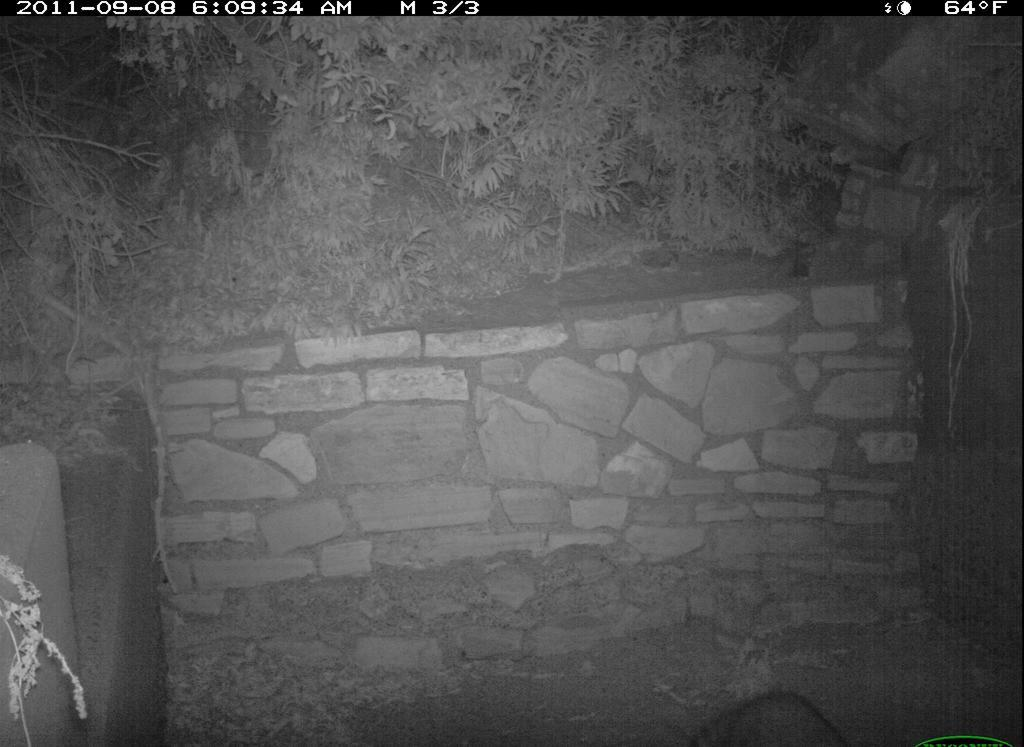raccoon: (683, 687, 859, 745)
